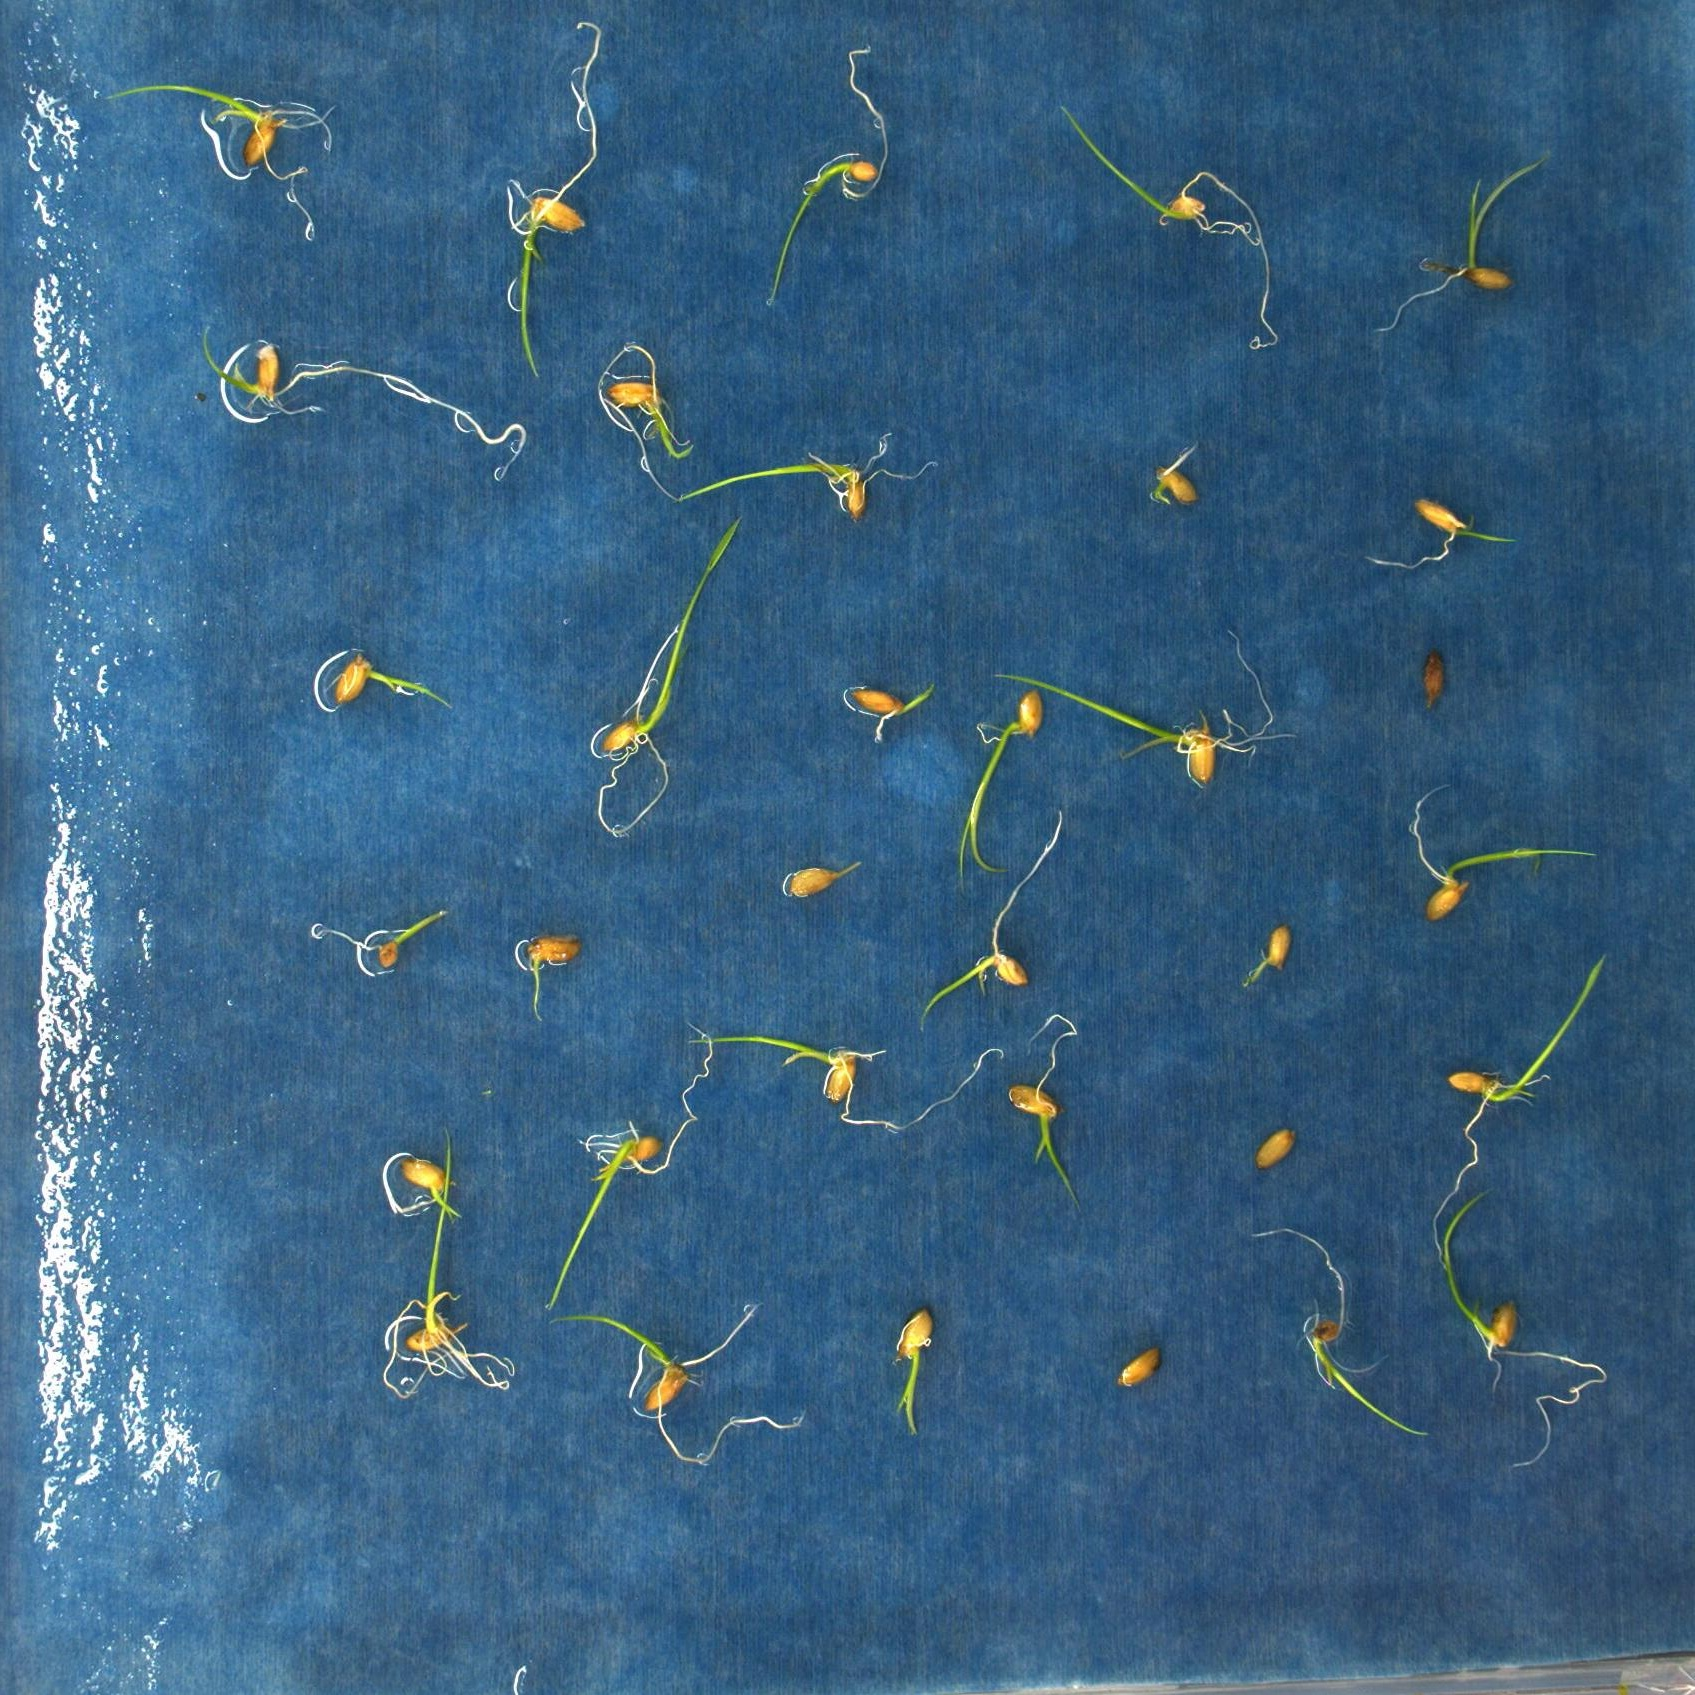not sprout: (792, 857, 863, 900), (1113, 1346, 1164, 1391), (1256, 1127, 1295, 1170), (1423, 647, 1448, 711)
sprout: (1431, 951, 1611, 1268), (1059, 99, 1279, 349), (543, 1018, 716, 1312), (200, 323, 528, 475), (992, 626, 1298, 787), (598, 512, 744, 837), (1444, 1192, 1608, 1471), (549, 1315, 806, 1465), (1256, 1226, 1433, 1437), (380, 1125, 517, 1399), (106, 81, 337, 241), (508, 20, 604, 376), (917, 812, 1063, 1034), (691, 1034, 1007, 1133), (767, 43, 886, 304), (1378, 154, 1551, 334), (1414, 781, 1596, 920), (678, 432, 938, 523), (959, 686, 1045, 894), (1006, 1015, 1083, 1212), (598, 345, 694, 501), (1364, 492, 1518, 574), (321, 908, 452, 965), (335, 650, 453, 712), (847, 680, 934, 748), (526, 928, 587, 1023), (383, 1153, 466, 1220), (893, 1305, 934, 1434), (1150, 439, 1205, 511), (1242, 924, 1291, 989)
